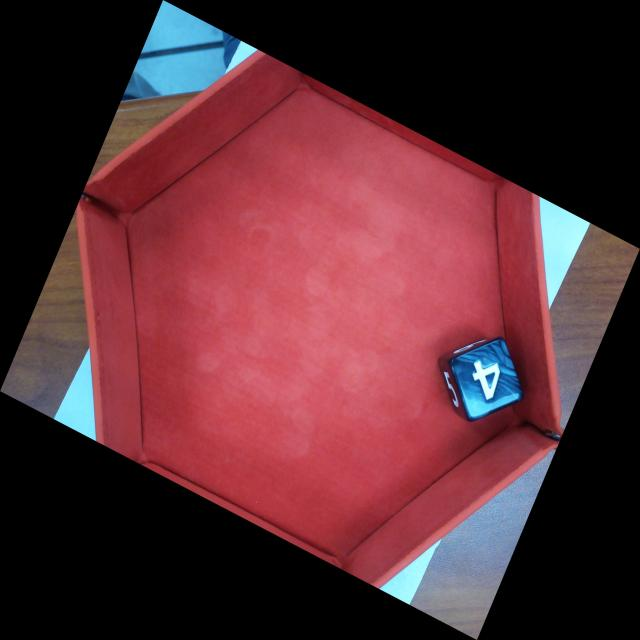dice: (448, 335, 527, 423)
